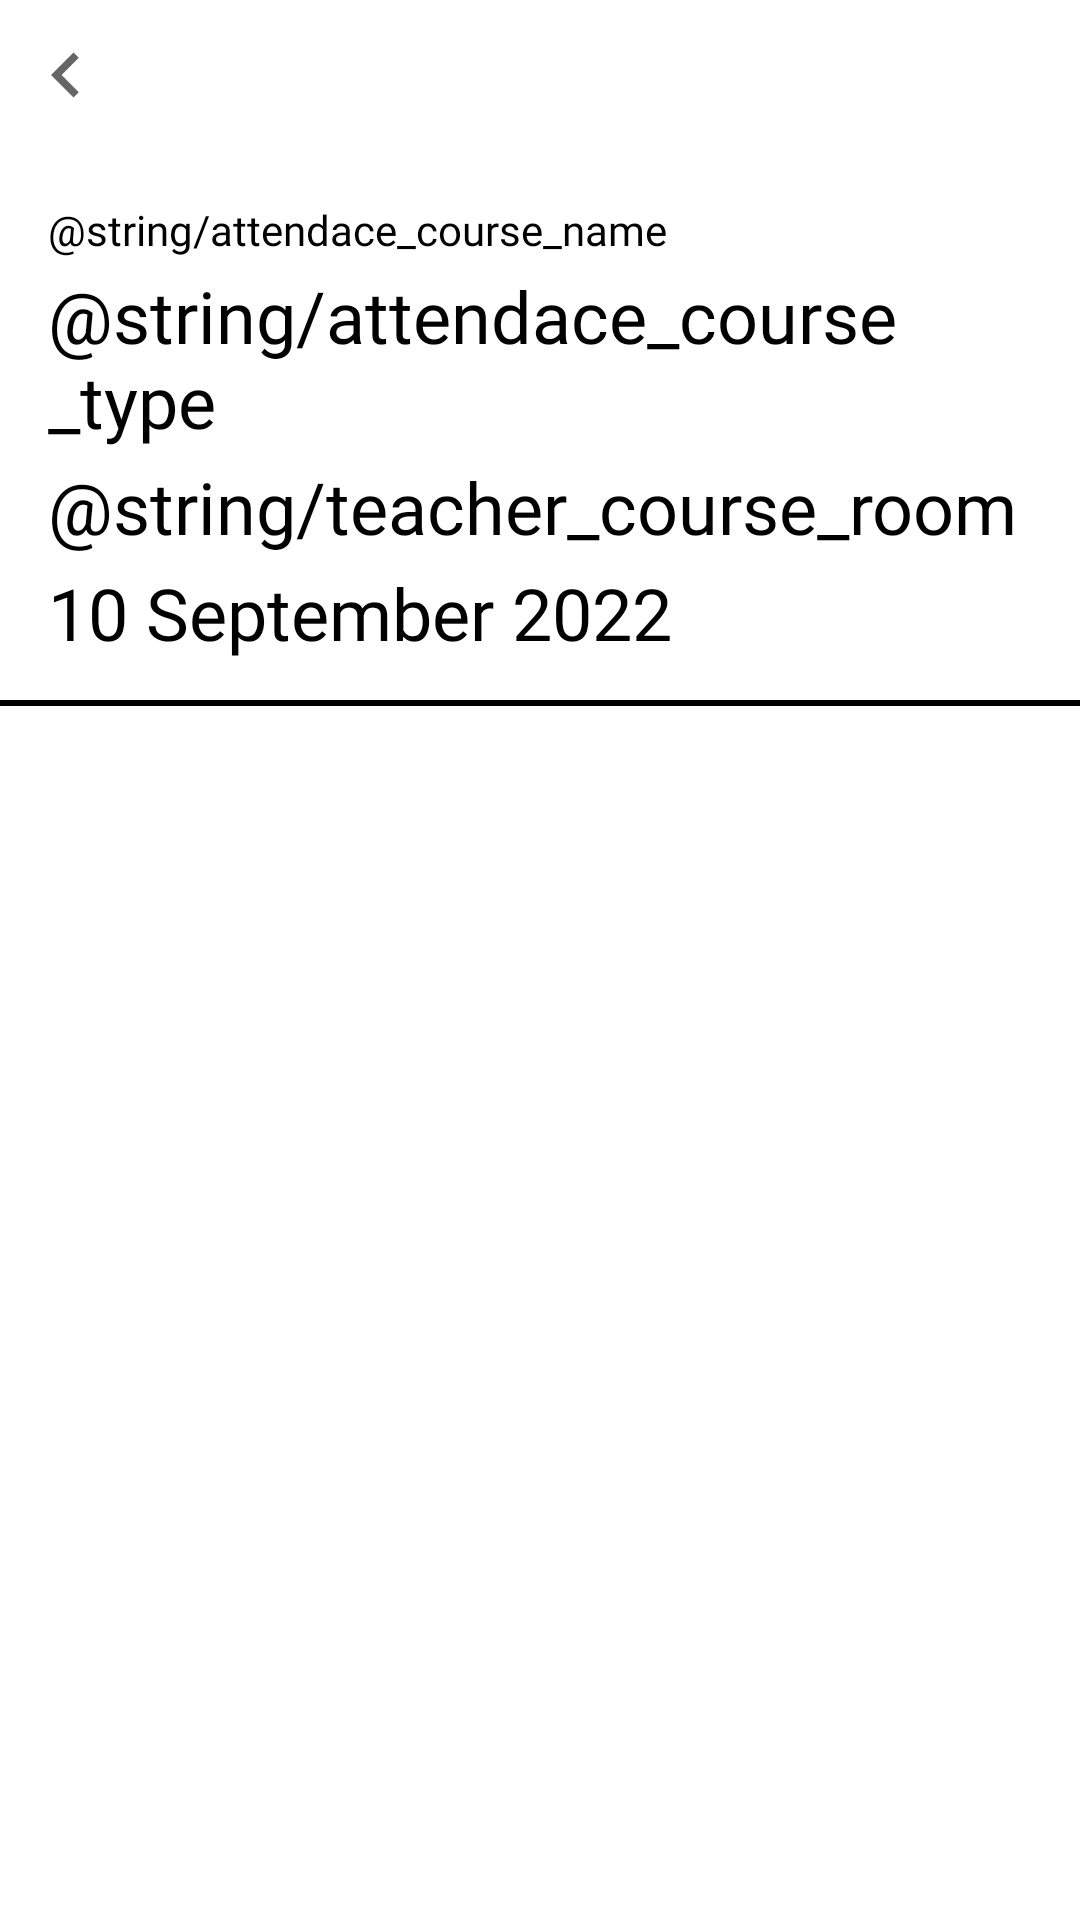

Point at icon controls on the screen. Image size 1080 × 1920, points as point (x, y).
left arrow: point (65, 75)
